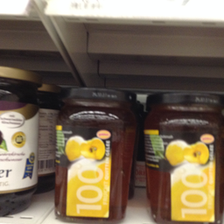jam: (54, 87, 138, 224), (143, 93, 224, 223), (1, 65, 42, 217)
